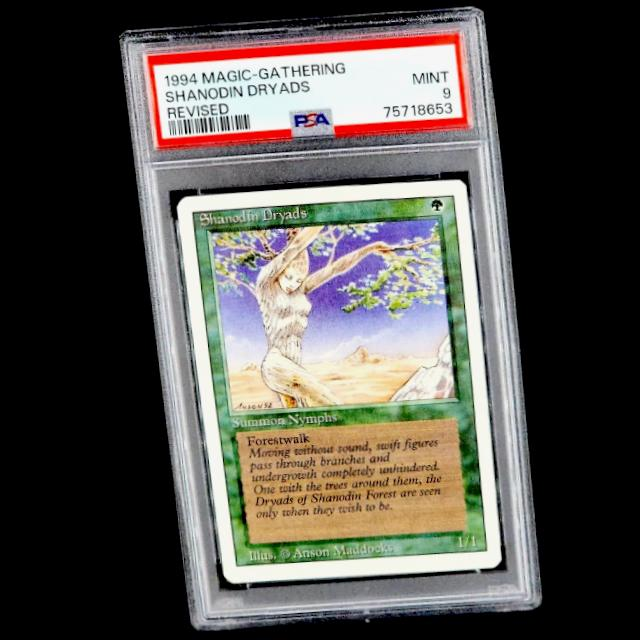card: (171, 179, 497, 585)
psa_label: (143, 31, 470, 149)
psa_slab: (118, 5, 538, 632)
